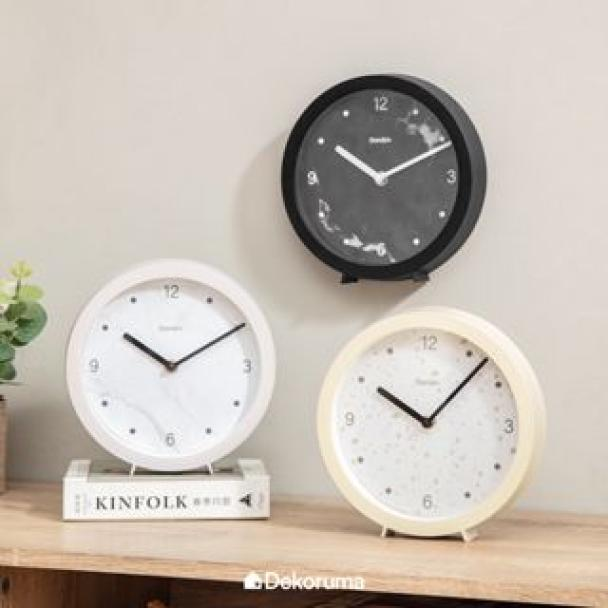Jam: (325, 311, 536, 535), (66, 263, 273, 472), (288, 74, 473, 274)
